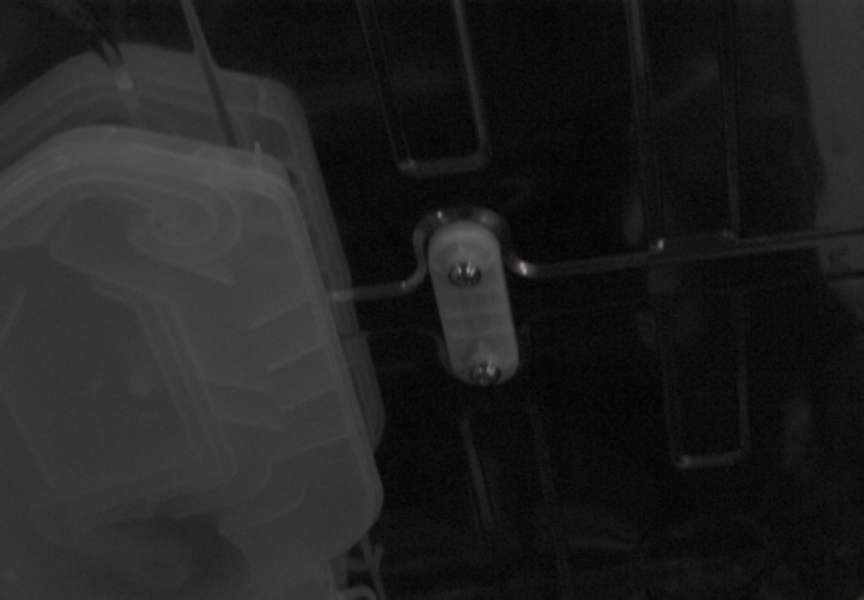screw: (449, 261, 482, 288), (469, 361, 501, 387)
